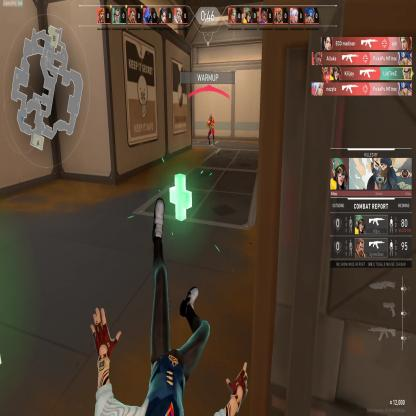enemy: (206, 112, 215, 146)
